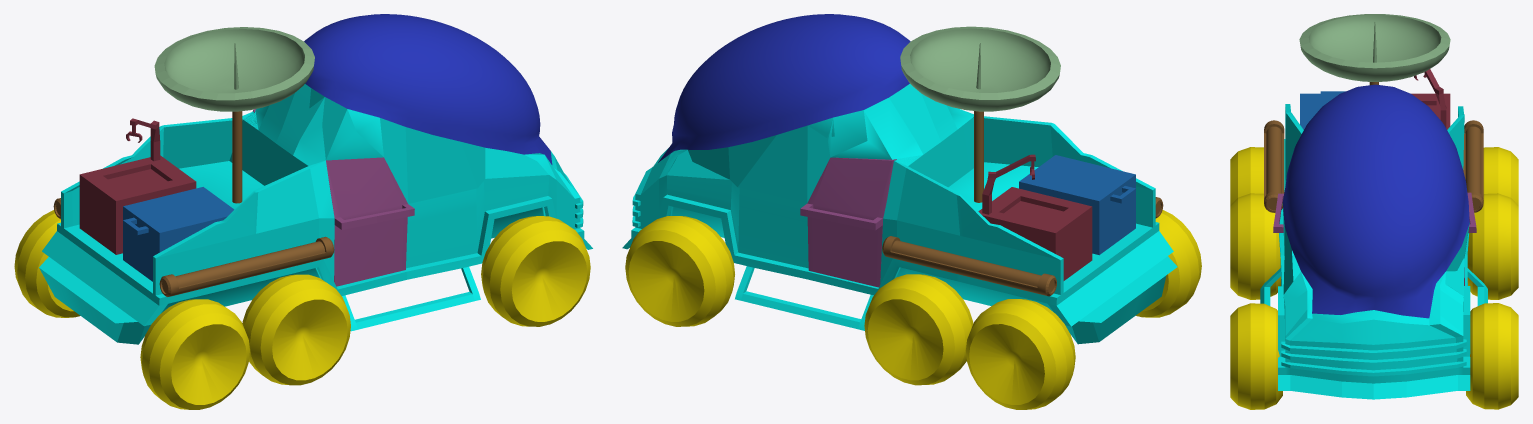
The model's file is CarModel.fbx.
3 views of the same model, side by side, from view 1: azimuth 30°, elevation 25°; view 2: azimuth 150°, elevation 25°; view 3: azimuth 270°, elevation 25° (orthographic). The views are drawn at different scales.
Visible parts, largest first — view 1: Carroceria, pCone3, Antena, Rueda, Rueda2, Rueda1, Puerta1, pasted__pCube1, Cofre, pCylinder2, Rueda3, PaloAntena; view 2: Carroceria, pCone3, Antena, Rueda3, Rueda5, Rueda4, Puerta, pasted__pCube1, Cofre, pCylinder1, Rueda2, PaloAntena; view 3: pCone3, Carroceria, Antena, Rueda5, Rueda, Rueda4, Rueda1, pCylinder2, Rueda3, pCylinder1, Rueda2, pasted__pCube1 (+2 smaller).
Part boxes in pixels (<box>): Carroceria: <box>39,84,592,344</box>; pCone3: <box>304,14,552,164</box>; Antena: <box>154,27,314,111</box>; Rueda: <box>481,216,590,326</box>; Rueda2: <box>140,299,249,409</box>; Rueda1: <box>242,274,350,385</box>; Puerta1: <box>326,157,414,286</box>; pasted__pCube1: <box>79,118,196,254</box>; Cofre: <box>123,187,234,281</box>; pCylinder2: <box>159,236,334,296</box>; Rueda3: <box>14,210,80,317</box>; PaloAntena: <box>232,111,242,203</box>; Carroceria: <box>622,84,1177,344</box>; pCone3: <box>658,14,910,162</box>; Antena: <box>900,26,1060,111</box>; Rueda3: <box>966,299,1075,409</box>; Rueda5: <box>625,216,734,326</box>; Rueda4: <box>864,274,973,385</box>; Puerta: <box>800,157,896,287</box>; pasted__pCube1: <box>978,154,1092,280</box>; Cofre: <box>1019,155,1135,255</box>; pCylinder1: <box>882,236,1056,296</box>; Rueda2: <box>1136,210,1201,317</box>; PaloAntena: <box>974,111,983,202</box>; pCone3: <box>1282,84,1469,318</box>; Carroceria: <box>1260,104,1487,399</box>; Antena: <box>1299,14,1450,81</box>; Rueda5: <box>1466,303,1518,409</box>; Rueda: <box>1230,303,1282,409</box>; Rueda4: <box>1467,193,1518,299</box>; Rueda1: <box>1230,193,1280,299</box>; pCylinder2: <box>1264,120,1284,212</box>; Rueda3: <box>1483,147,1518,205</box>; pCylinder1: <box>1463,120,1483,212</box>; Rueda2: <box>1230,147,1263,205</box>; pasted__pCube1: <box>1411,69,1450,129</box>.
Size of the model in its own units: 7.39 by 4.25 by 4.05.
